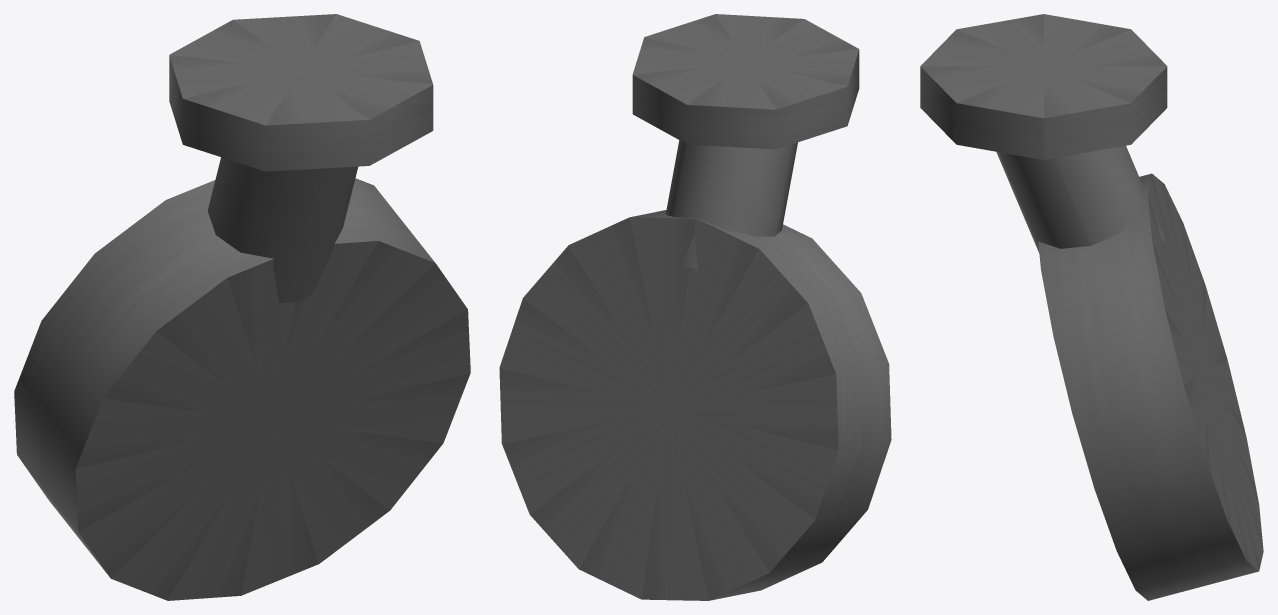
The model's file is mastarmcurve_10x2_c3_up.obj.
3 renders of one model, left to right at view 1: azimuth 30°, elevation 25°; view 2: azimuth 150°, elevation 25°; view 3: azimuth 270°, elevation 25°, orthographic. The views are drawn at different scales.
Parts seen in each view (by area): view 1: mastarm_10x2_c3_up; view 2: mastarm_10x2_c3_up; view 3: mastarm_10x2_c3_up.
Part boxes in pixels (<box>): mastarm_10x2_c3_up: <box>14,14,470,600</box>; mastarm_10x2_c3_up: <box>499,14,891,600</box>; mastarm_10x2_c3_up: <box>920,14,1263,600</box>.
Size of the model in its own units: 0.6675 by 0.92 by 0.5557.
